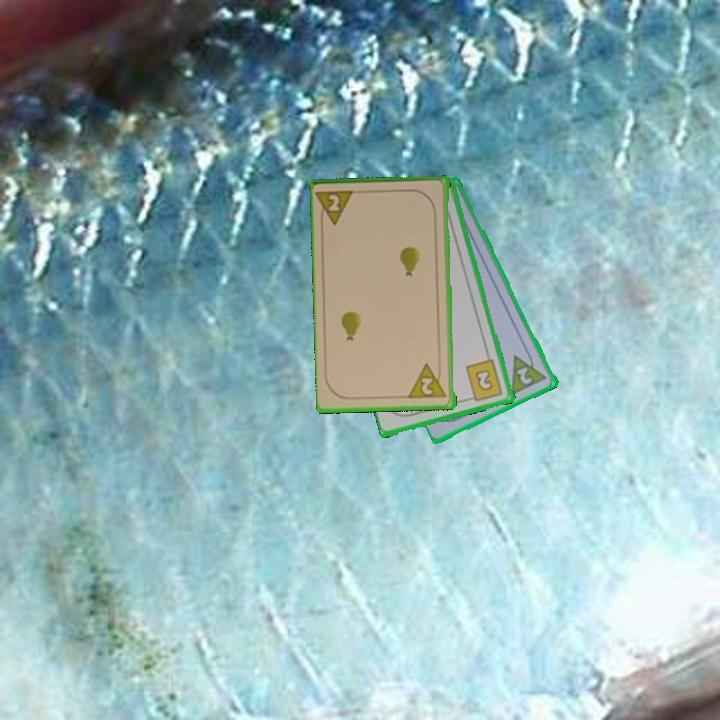2b: (463, 356, 506, 405)
2p: (508, 346, 550, 398), (315, 187, 359, 229), (407, 360, 450, 401)
